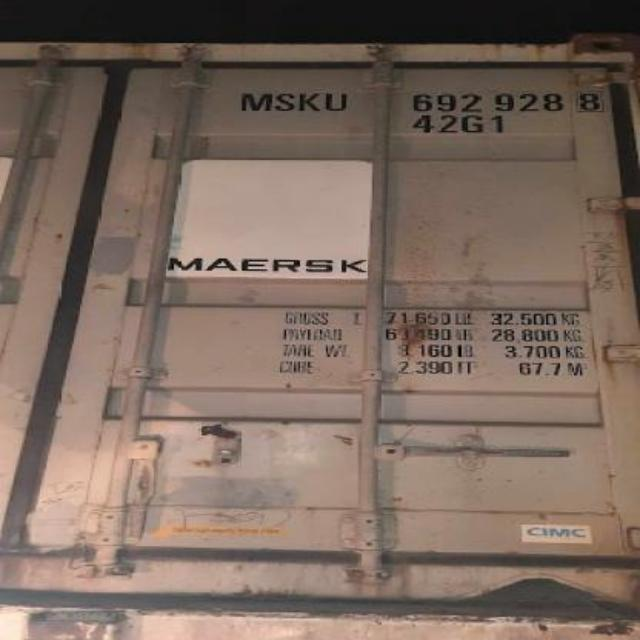2: (458, 92, 484, 112), (516, 92, 540, 112)
6: (412, 91, 430, 111)
8: (574, 91, 608, 111), (546, 91, 564, 112)
9: (490, 92, 516, 112), (438, 94, 458, 110)
K: (294, 90, 324, 112)
M: (236, 92, 278, 115)
S: (272, 93, 298, 111)
U: (322, 92, 354, 112)
